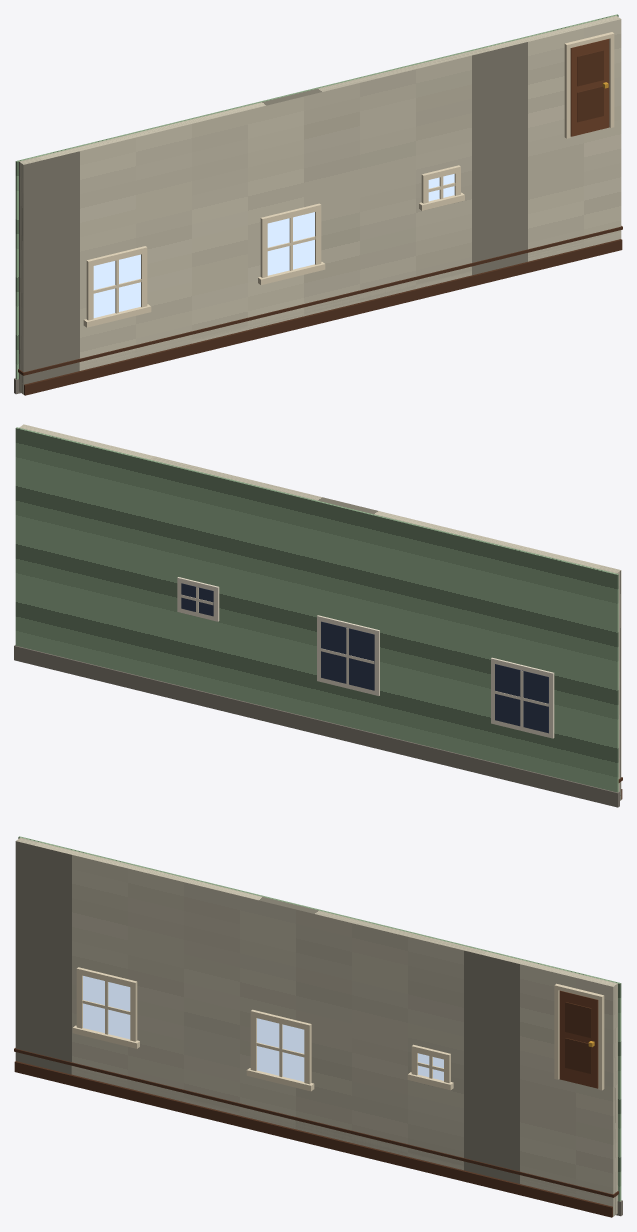
The model's file is back.glb.
3 renders of one model, top to bottom at view 1: azimuth 30°, elevation 25°; view 2: azimuth 150°, elevation 25°; view 3: azimuth 330°, elevation 25°, orthographic.
Parts seen in each view (by area): view 1: Box1, Box2, Box42, Box43, Box13, Box24, slab, Box3, slab_panel2, slab_panel, Box39, Box40 (+2 smaller); view 2: Box3, Box4, Box1, Box6, Box17, Box16, Box5, Box27, Box28; view 3: Box1, Box2, Box42, Box43, Box13, Box24, slab, Box3, slab_panel2, slab_panel, Box40, Box39 (+2 smaller).
Part boxes in pixels (<box>): Box1: <box>19,15,621,394</box>; Box2: <box>24,239,622,395</box>; Box42: <box>19,230,621,394</box>; Box43: <box>18,226,622,375</box>; Box13: <box>267,212,314,275</box>; Box24: <box>93,254,140,317</box>; slab: <box>570,39,609,136</box>; Box3: <box>15,14,618,379</box>; slab_panel2: <box>577,50,603,86</box>; slab_panel: <box>577,86,603,122</box>; Box39: <box>564,42,570,138</box>; Box40: <box>609,32,614,127</box>; Box3: <box>15,427,618,792</box>; Box4: <box>14,645,619,807</box>; Box1: <box>19,424,621,800</box>; Box6: <box>321,621,374,690</box>; Box17: <box>495,664,548,733</box>; Box16: <box>491,657,554,738</box>; Box5: <box>317,615,379,695</box>; Box27: <box>177,577,219,621</box>; Box28: <box>181,583,213,616</box>; Box1: <box>15,837,617,1216</box>; Box2: <box>14,1061,612,1217</box>; Box42: <box>15,1052,617,1215</box>; Box43: <box>14,1048,618,1197</box>; Box13: <box>257,1018,304,1081</box>; Box24: <box>83,976,130,1039</box>; slab: <box>559,990,598,1088</box>; Box3: <box>18,836,621,1201</box>; slab_panel2: <box>565,1002,591,1037</box>; slab_panel: <box>565,1038,591,1073</box>; Box40: <box>598,994,604,1090</box>; Box39: <box>554,983,559,1079</box>.
Size of the model in its own units: 11.27 by 4.14 by 0.373.
Materials: 11 (2 with a texture image).
